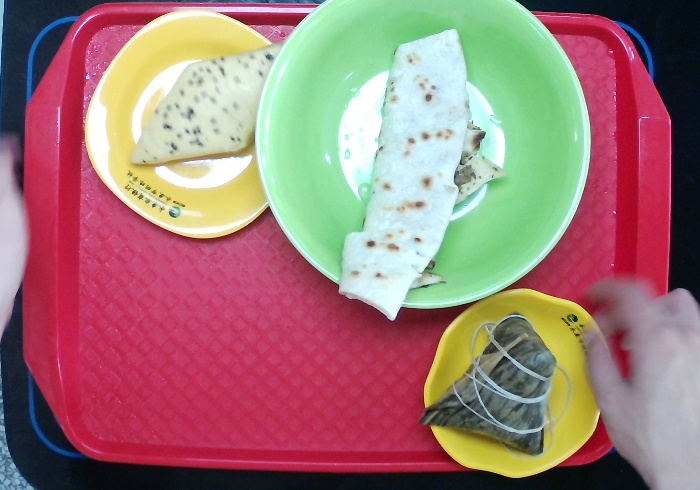YKMZ-Huang_Se_Ao_Bian_Wan: (419, 290, 616, 483)
YKMZ-Huang_Se_Fang_Die: (81, 9, 288, 236)
YKMZ-Lv_Se_Tang_Wan: (257, 1, 597, 310)
